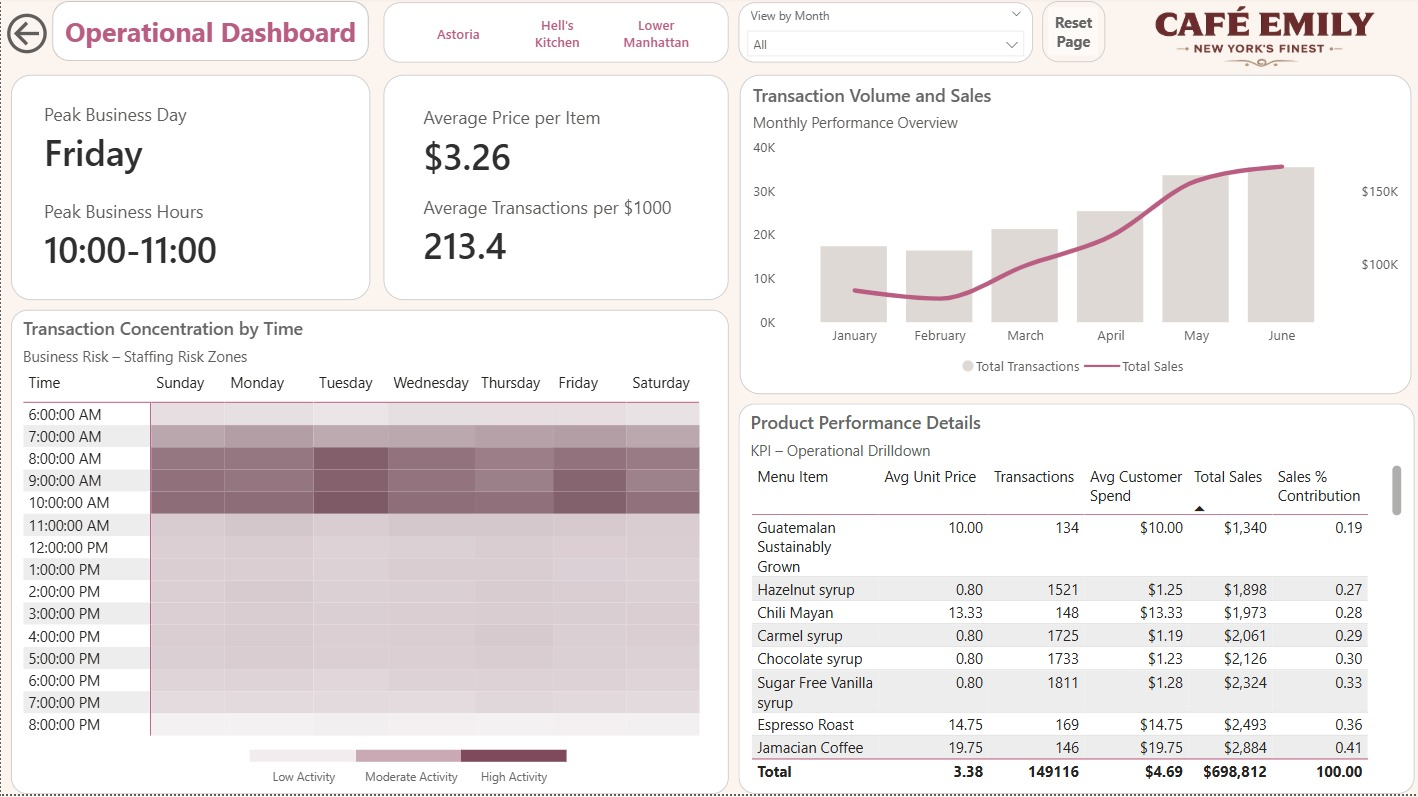

The dashboard page shown, as its layout file describes it:
{"tool":"powerbi","page":{"name":" Operations Page","canvas":[1280,720],"ordinal":1},"visuals":[{"type":"pivotTable","title":"Transaction Concentration by Time","fields":{"Rows":["coffee-shop-sales-revenue.Hour Bucket"],"Columns":["coffee-shop-sales-revenue.Day Name"],"Values":["coffee-shop-sales-revenue.Total Transactions"]},"box":[8.6,283.1,647.4,436.9],"z":0},{"type":"shape","box":[224.4,679.2,95.7,10.9],"z":0,"group":"g1"},{"type":"shape","title":"Title","box":[46.8,4.9,285.5,54.2],"z":1000},{"type":"shape","box":[320.1,679.2,95.7,10.9],"z":1000,"group":"g1"},{"type":"slicer","title":"Month Slicer","fields":{"Values":["coffee-shop-sales-revenue.store_location"]},"box":[344.6,6.2,311.4,54.2],"z":2000},{"type":"shape","box":[415,679.2,95.3,10.9],"z":2000,"group":"g1"},{"type":"shape","box":[225.6,694.9,95.3,16.9],"z":2000,"group":"g2"},{"type":"tableEx","title":"Product Performance Details","fields":{"Values":["coffee-shop-sales-revenue.Menu Item","Avg(coffee-shop-sales-revenue.unit_price)","coffee-shop-sales-revenue.Total Transactions","coffee-shop-sales-revenue.AOV","coffee-shop-sales-revenue.Total Revenue","coffee-shop-sales-revenue.Sales % Contribution"]},"box":[664.7,368,609.3,352.3],"z":4000},{"type":"shape","box":[322.1,694.9,95.3,16.9],"z":4000,"group":"g2"},{"type":"slicer","title":"Month Slicer","fields":{"Values":["coffee-shop-sales-revenue.Month"]},"box":[664.7,6,265.4,54.3],"z":5000},{"type":"actionButton","box":[0,6.2,46.8,56.6],"z":6000},{"type":"actionButton","title":"Filter Clear","box":[938.6,4.8,56.7,55.5],"z":7000},{"type":"lineClusteredColumnComboChart","title":"Transaction Volume and Sales","fields":{"Y":["coffee-shop-sales-revenue.Total Transactions"],"Category":["coffee-shop-sales-revenue.Month Name"],"Y2":["coffee-shop-sales-revenue.Total Sales"]},"box":[666,71.2,605.6,288.3],"z":8000},{"type":"cardVisual","fields":{"Data":["coffee-shop-sales-revenue.Peak Day","coffee-shop-sales-revenue.Peak Hours"]},"box":[8.6,71.4,323.7,203.1],"z":9000},{"type":"image","box":[1008.6,8.4,265.4,62.7],"z":10000},{"type":"cardVisual","fields":{"Data":["coffee-shop-sales-revenue.AVg Price per Item","coffee-shop-sales-revenue.Transaction per $1k"]},"box":[344.6,71.4,311.4,203.1],"z":11000},{"type":"group","id":"g1","title":"HeatMap Scale","box":[224.4,679.2,285.9,10.9],"z":12000},{"type":"group","id":"g2","title":"Group 1","box":[225.6,694.9,284.7,16.9],"z":13000},{"type":"shape","box":[415,694.9,95.3,16.9],"z":14001,"group":"g2"}]}

Visuals, with their boxes in screenshot pixels (x1, y1, x2, y2), scaled from the page's 1280x720 canvas onto the 1418x797 screenshot:
"Transaction Concentration by Time" pivotTable: box(10, 313, 727, 796)
shape: box(249, 752, 355, 764)
"Title" shape: box(52, 5, 368, 65)
shape: box(355, 752, 461, 764)
"Month Slicer" slicer: box(382, 7, 727, 67)
shape: box(460, 752, 565, 764)
shape: box(250, 769, 355, 788)
"Product Performance Details" tableEx: box(736, 407, 1411, 796)
shape: box(357, 769, 462, 788)
"Month Slicer" slicer: box(736, 7, 1030, 67)
actionButton: box(0, 7, 52, 70)
"Filter Clear" actionButton: box(1040, 5, 1103, 67)
"Transaction Volume and Sales" lineClusteredColumnComboChart: box(738, 79, 1409, 398)
cardVisual - coffee-shop-sales-revenue.Peak Day x coffee-shop-sales-revenue.Peak Hours: box(10, 79, 368, 304)
image: box(1117, 9, 1411, 79)
cardVisual - coffee-shop-sales-revenue.AVg Price per Item x coffee-shop-sales-revenue.Transaction per $1k: box(382, 79, 727, 304)
"HeatMap Scale" group: box(249, 752, 565, 764)
"Group 1" group: box(250, 769, 565, 788)
shape: box(460, 769, 565, 788)
